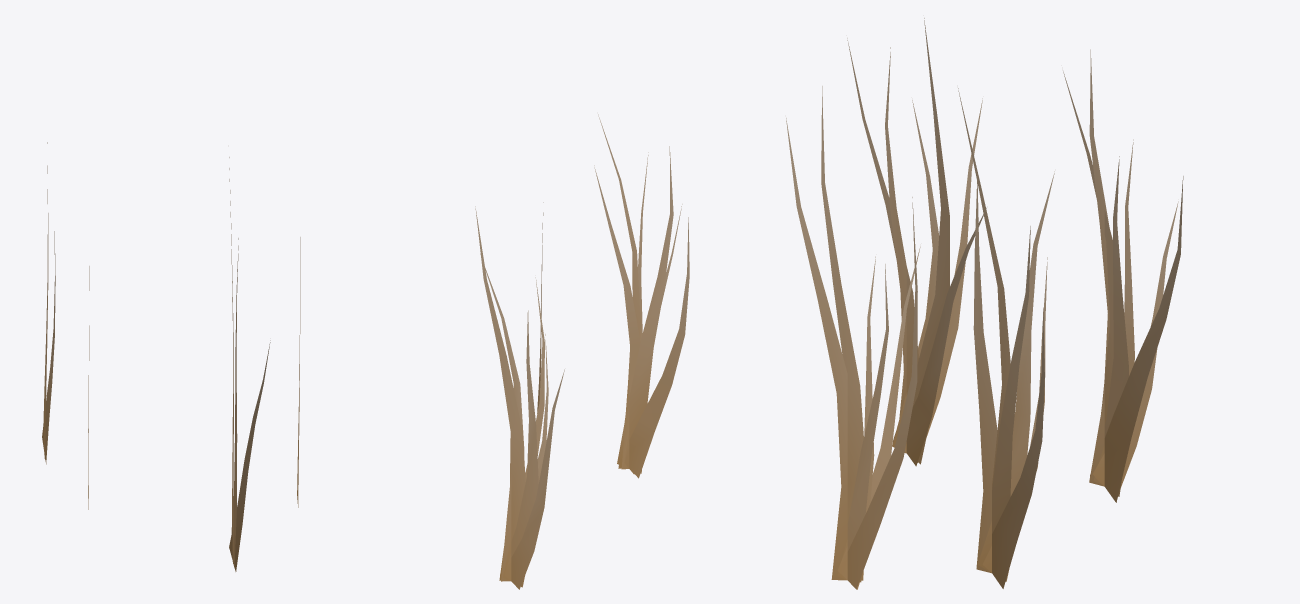
Rendered from mesh-plant-028-ghost-fan_LOD1.glb.
3 views of the same model, side by side, from view 1: azimuth 30°, elevation 25°; view 2: azimuth 150°, elevation 25°; view 3: azimuth 270°, elevation 25° (orthographic). The views are drawn at different scales.
Visible parts, largest first — view 1: geometry_0; view 2: geometry_0; view 3: geometry_0.
Part boxes in pixels (x1,y1,x2,y2): geometry_0: (42,142,300,571); geometry_0: (475,114,689,589); geometry_0: (786,18,1183,589).
Size of the model in its own units: 0.9922 by 1.65 by 1.47.
